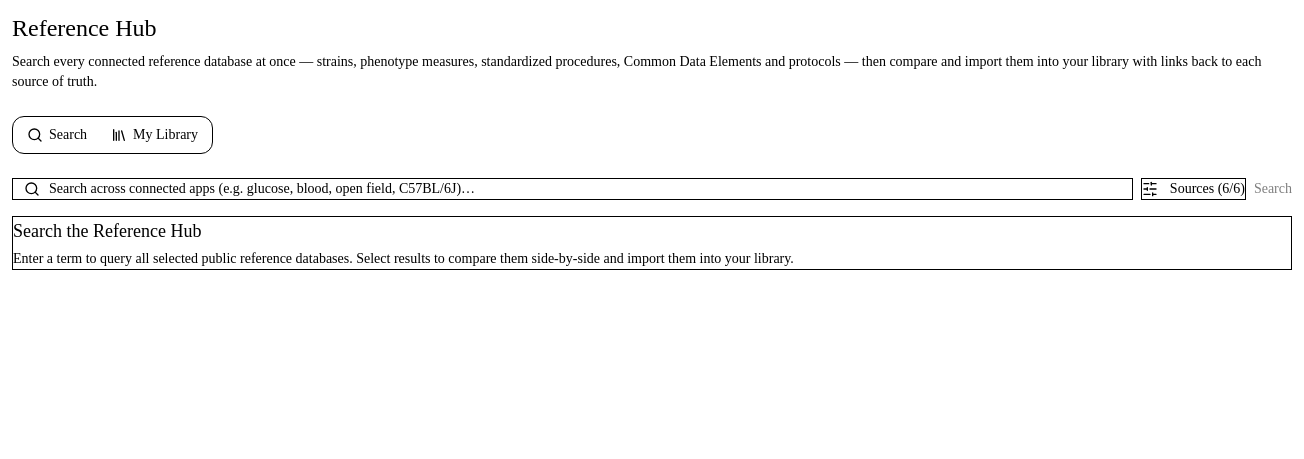
Test: ReferenceHubPage › searches and renders results grouped by source
Step 1. Replace the text in the field with placeholder "Search across connected apps" with "glucose" → (572, 189), box [12,178,1133,200]
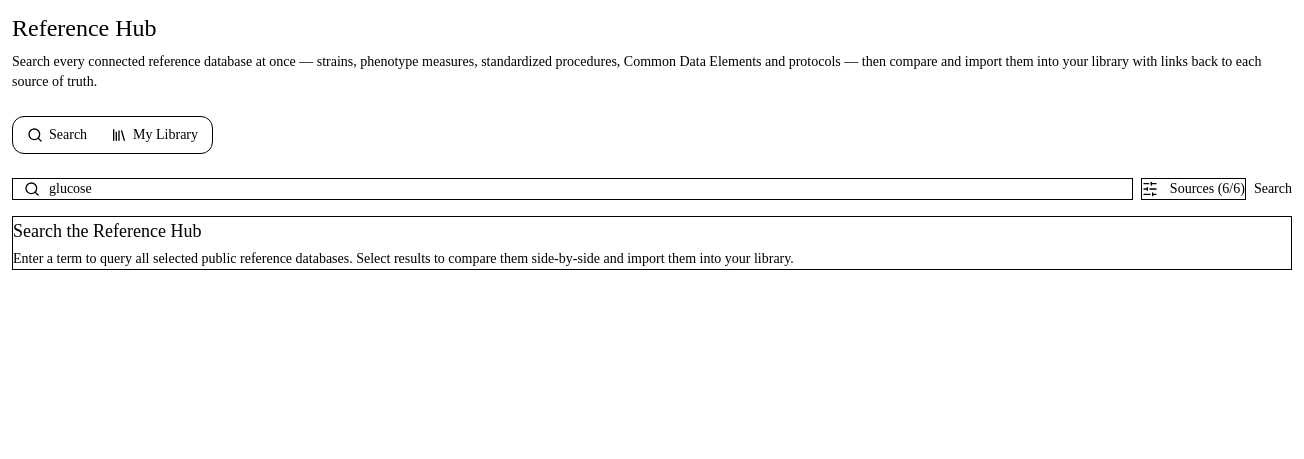
Step 2. Click the button "Search" → (1273, 189), box [1254,178,1292,200]
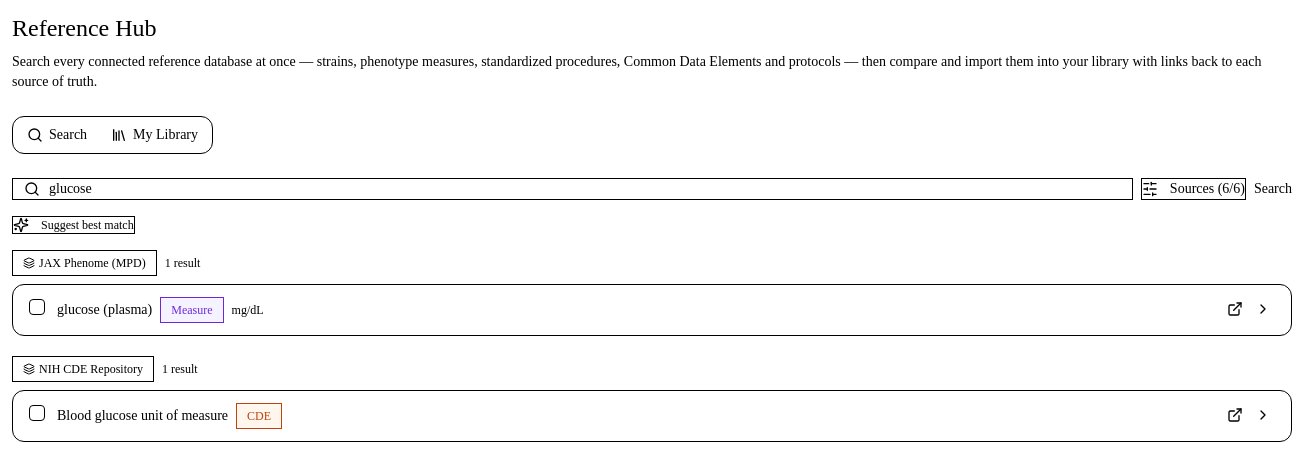
Result: the text "glucose (plasma)" is shown at [57,300,152,320]
Result: the text "Blood glucose unit of measure" is shown at [57,406,228,426]
Result: the text "JAX Phenome (MPD)" is shown at [12,250,157,276]
